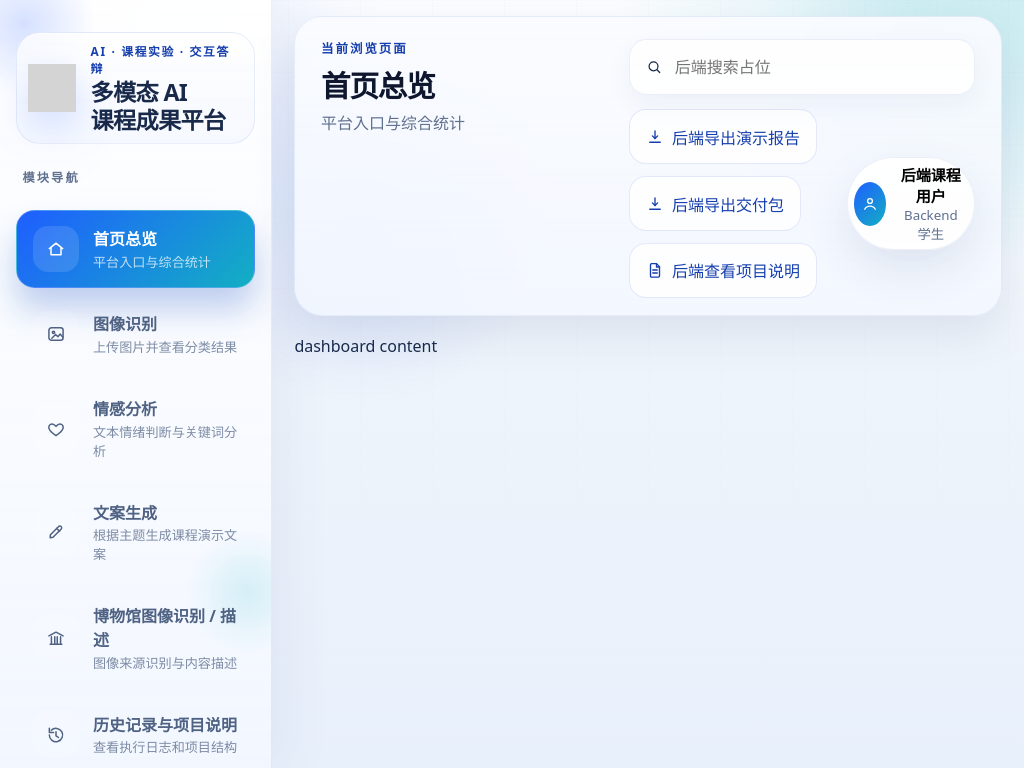
AppShell › applies backend shell metadata to search and toolbar copy
expect the button "后端导出演示报告" is shown: met, box x1=629 y1=109 x2=817 y2=164
expect the button "后端导出交付包" is shown: met, box x1=629 y1=176 x2=801 y2=231
Type "ghost" into the search field named "后端全局搜索".
click(815, 67); type("ghost")  # box x1=673 y1=55 x2=958 y2=79
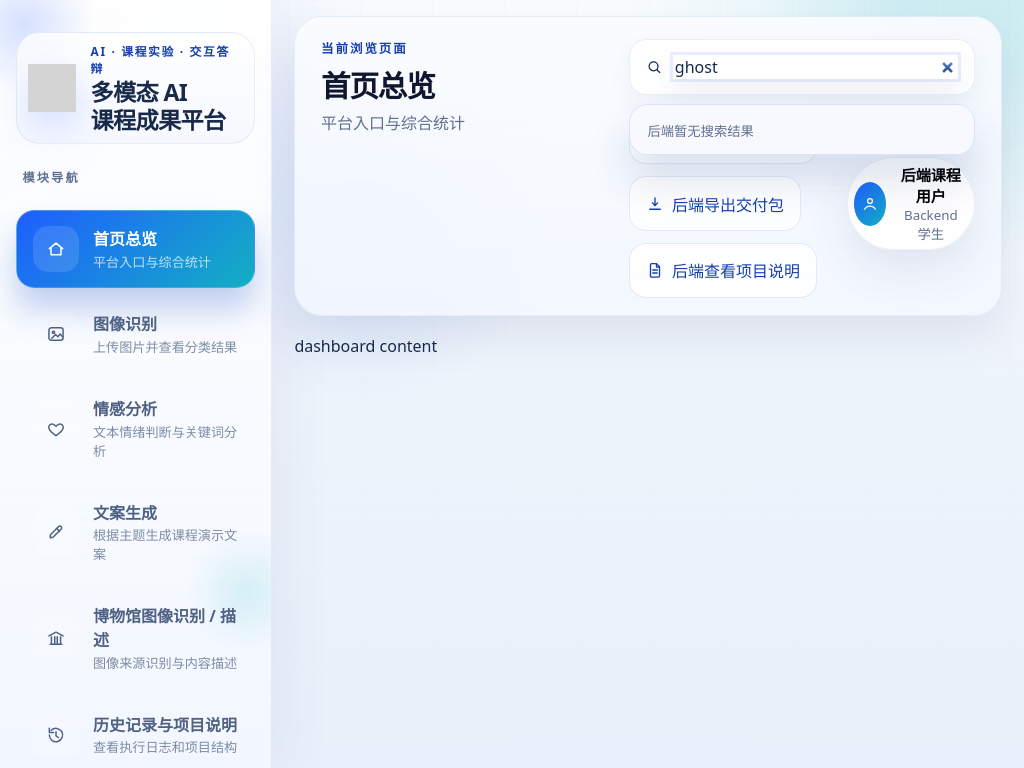
expect the list named "后端搜索建议" is shown: met, box x1=629 y1=104 x2=975 y2=155
expect the text "后端暂无搜索结果" is shown: met, box x1=648 y1=122 x2=754 y2=140
